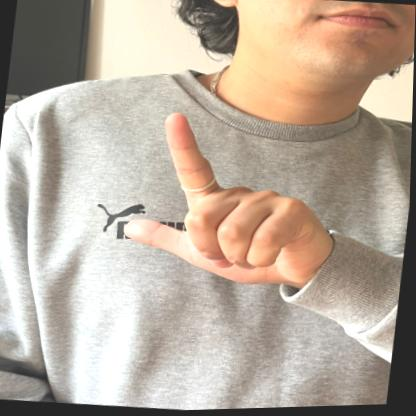L: (109, 96, 333, 301)
